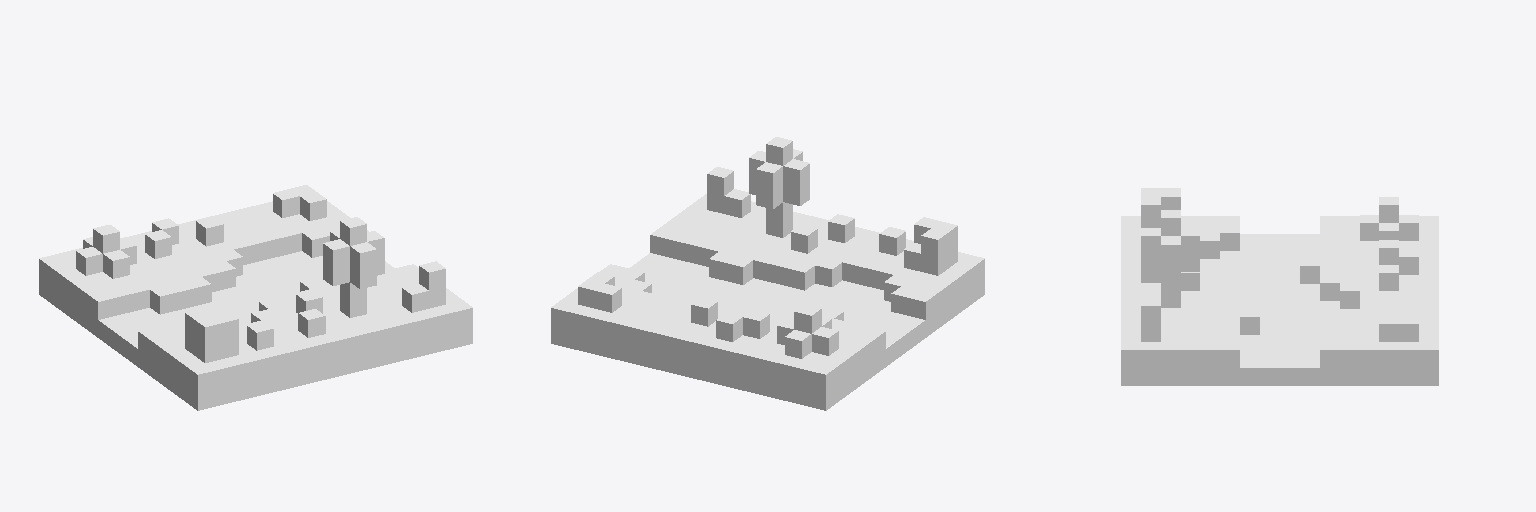
File: River_1.obj
3 renders of one model, left to right at view 1: azimuth 30°, elevation 25°; view 2: azimuth 150°, elevation 25°; view 3: azimuth 270°, elevation 25°, orthographic.
Parts seen in each view (by area): view 1: object 1; view 2: object 1; view 3: object 1.
Part boxes in pixels (x1,y1,x2,y2): object 1: (39,185,472,410); object 1: (551,137,984,410); object 1: (1121,188,1438,385).
Size of the model in its own units: 1.6 by 0.7 by 1.6.